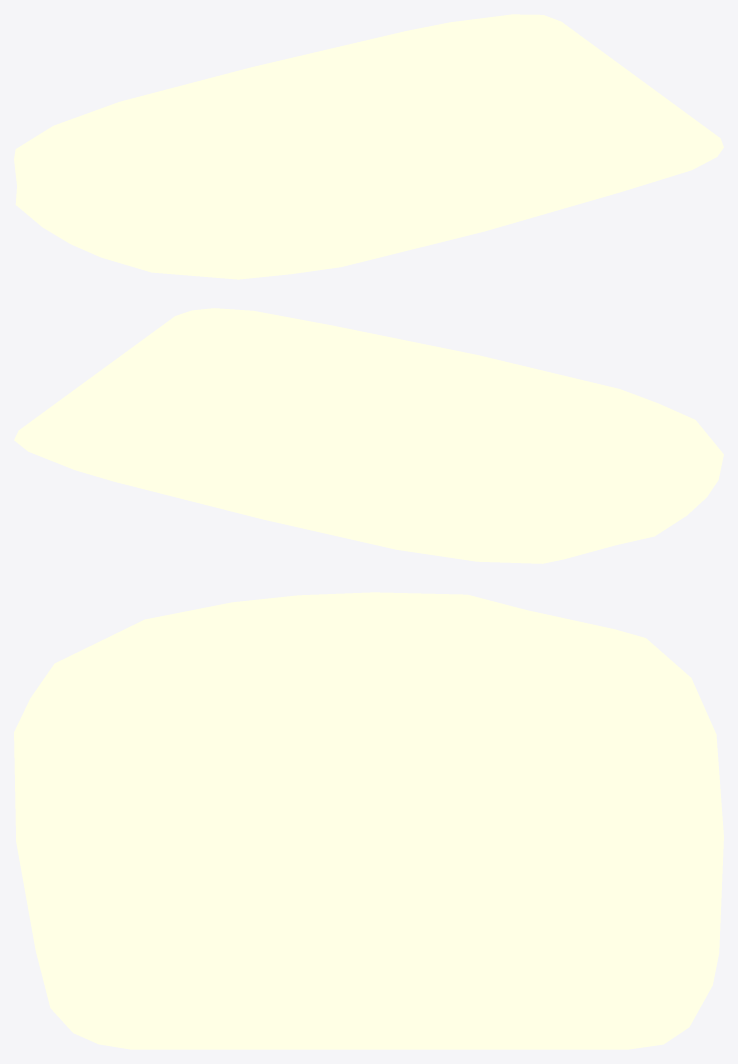
File: SFM_FP_Glow_001.fbx
The picture shows the model from 3 angles, top to bottom: view 1: azimuth 30°, elevation 25°; view 2: azimuth 150°, elevation 25°; view 3: azimuth 270°, elevation 25°; orthographic projection. The views are drawn at different scales.
Visible parts, largest first — view 1: SFM_FP_Glow_001; view 2: SFM_FP_Glow_001; view 3: SFM_FP_Glow_001.
Part boxes in pixels (x1,y1,x2,y2): SFM_FP_Glow_001: (14, 14, 723, 279); SFM_FP_Glow_001: (14, 308, 723, 563); SFM_FP_Glow_001: (14, 592, 723, 1049).
Size of the model in its own units: 220 by 2.98e-06 by 144.
